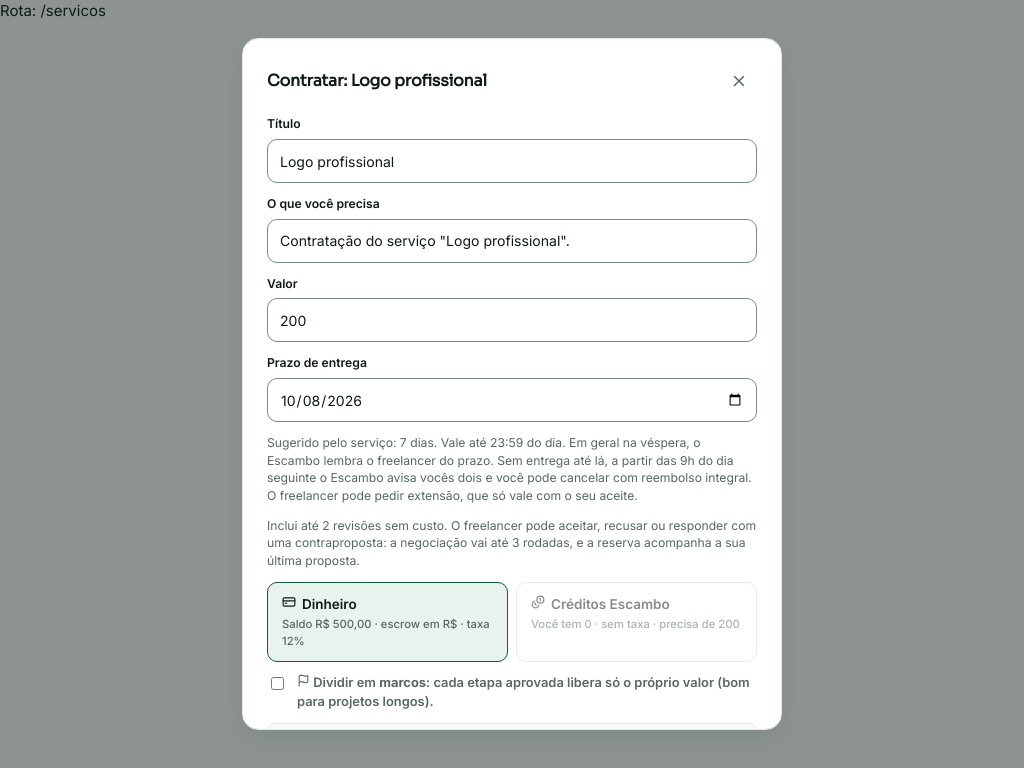
Scenario: ContratarModal: proposta em dinheiro › o resumo diz a taxa vigente e quanto o freelancer recebe, em R$, e acompanha o valor
Replace the text in the number field labelled "Valor" with "10.05": (512, 320) [267,298,757,342]
(page scrolled)
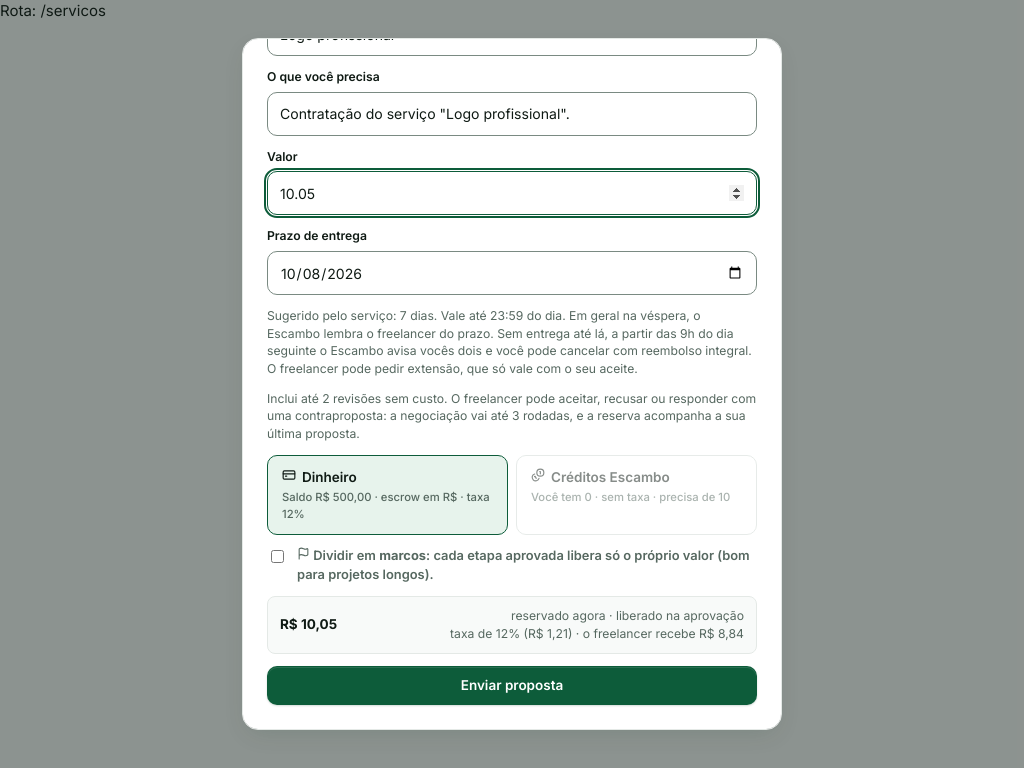
Now the text with test id "fee-summary" reads "taxa de 12% (R$ 1,21) · o freelancer recebe R$ 8,84", box [450,626,744,641]
